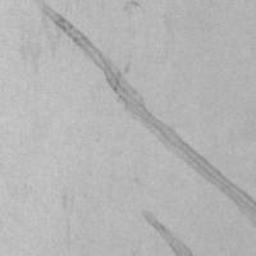Water spot: (40, 4, 256, 238), (143, 219, 193, 256)
